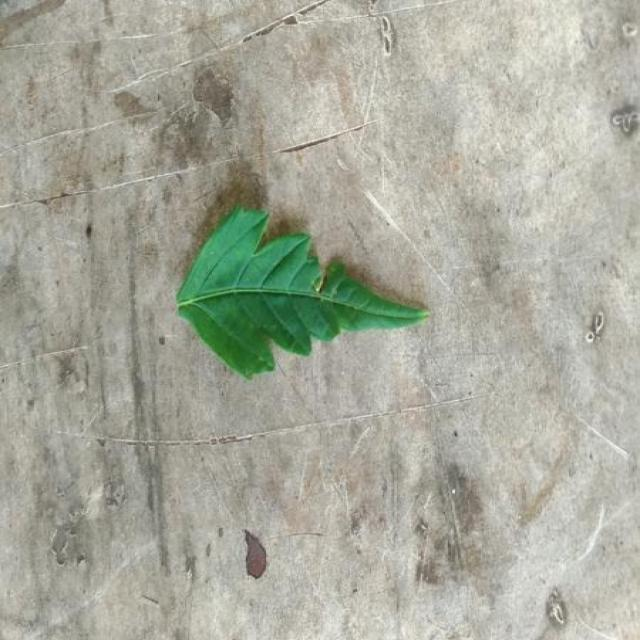balloon_Vine: (177, 206, 428, 377)
